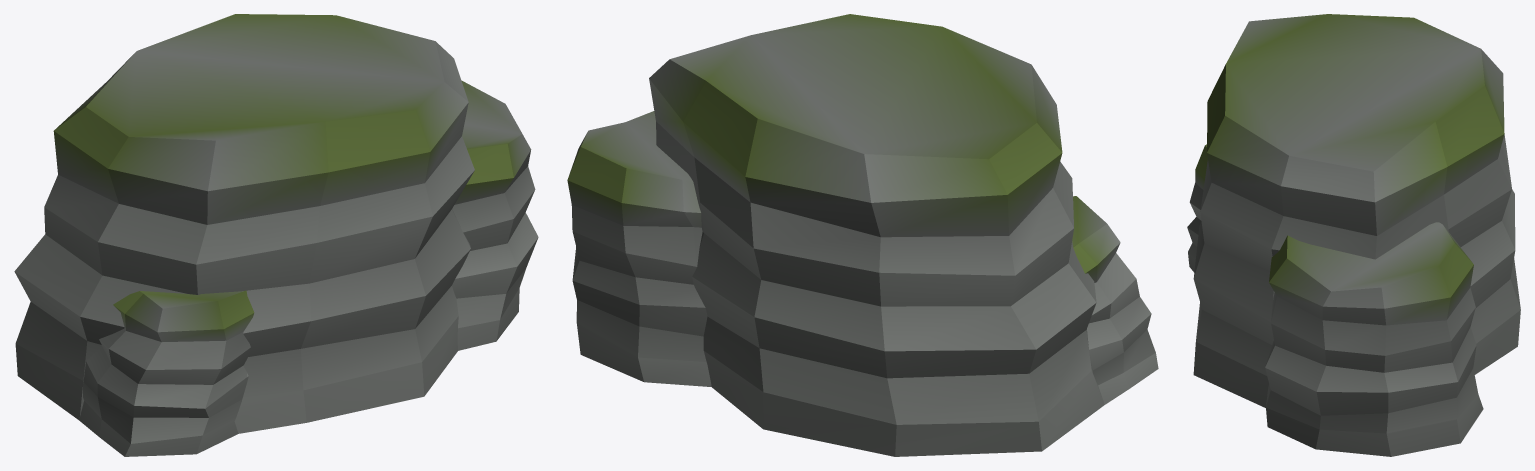
File: Boulder_variant_1.glb
3 views of the same model, side by side, from view 1: azimuth 30°, elevation 25°; view 2: azimuth 150°, elevation 25°; view 3: azimuth 270°, elevation 25° (orthographic). The views are drawn at different scales.
Visible parts, largest first — view 1: Boulder_variant_1; view 2: Boulder_variant_1; view 3: Boulder_variant_1.
Part boxes in pixels (bbox=[...]): Boulder_variant_1: bbox=[14, 14, 538, 456]; Boulder_variant_1: bbox=[567, 14, 1158, 456]; Boulder_variant_1: bbox=[1187, 14, 1520, 456].
Size of the model in its own units: 1.93 by 1.1 by 1.22.
